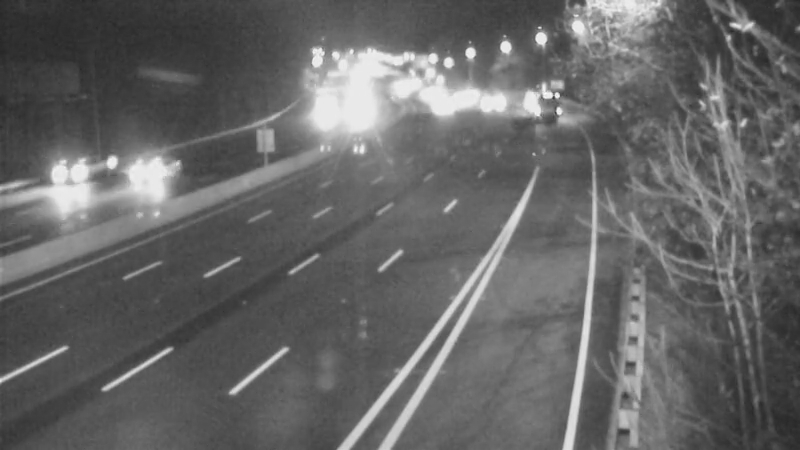vehicle: (30, 135, 110, 215), (103, 135, 183, 215), (436, 77, 486, 127), (514, 76, 564, 126), (462, 76, 512, 126), (414, 80, 464, 130)
